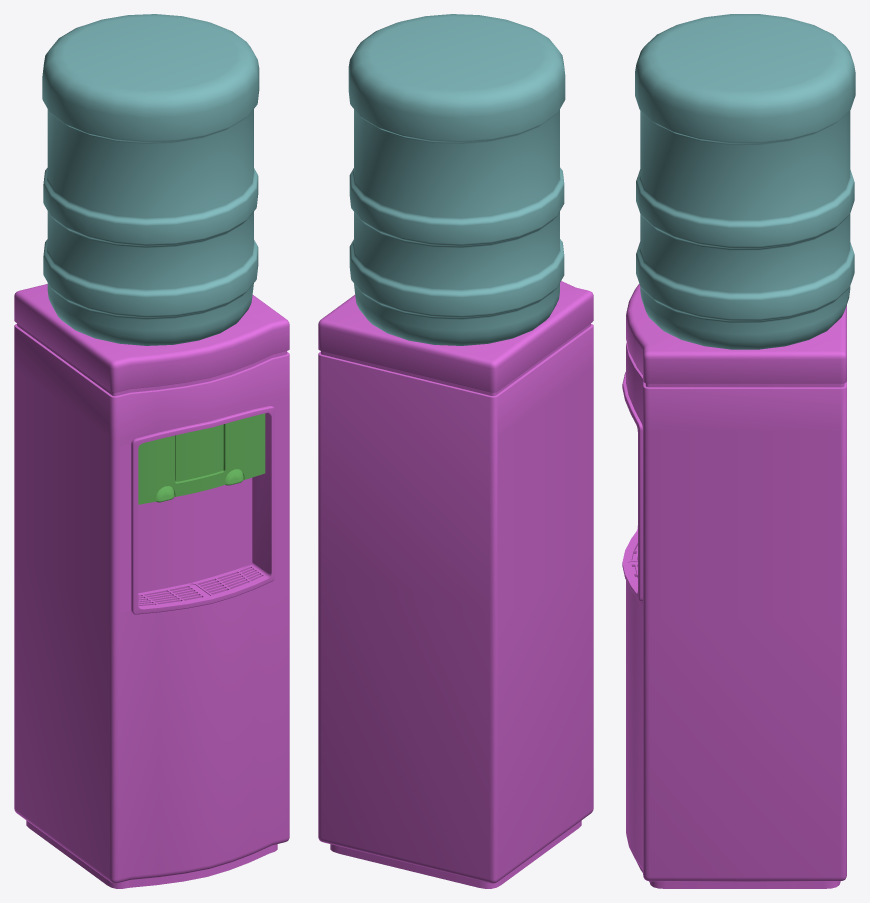
The model's file is WaterFilter.fbx.
The picture shows the model from 3 angles, left to right: view 1: azimuth 30°, elevation 25°; view 2: azimuth 150°, elevation 25°; view 3: azimuth 270°, elevation 25°; orthographic projection.
Parts seen in each view (by area): view 1: Box001, Cylinder001; view 2: Box001, Cylinder001; view 3: Box001, Cylinder001.
Boxes of the visible parts, x1,y1,x2,y2 form: Box001: [14, 284, 289, 888]; Cylinder001: [42, 14, 259, 345]; Box001: [318, 281, 593, 888]; Cylinder001: [348, 14, 565, 345]; Box001: [622, 284, 846, 888]; Cylinder001: [635, 14, 855, 349].
Size of the model in its own units: 137 by 549 by 146.
